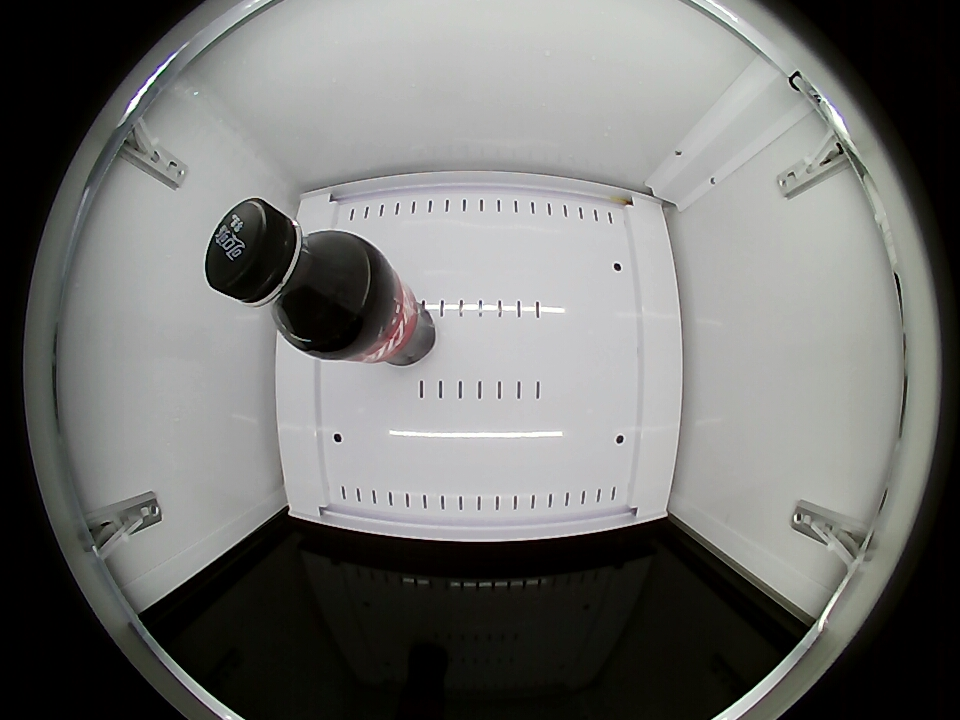lingdukele-b: (204, 199, 365, 347)
